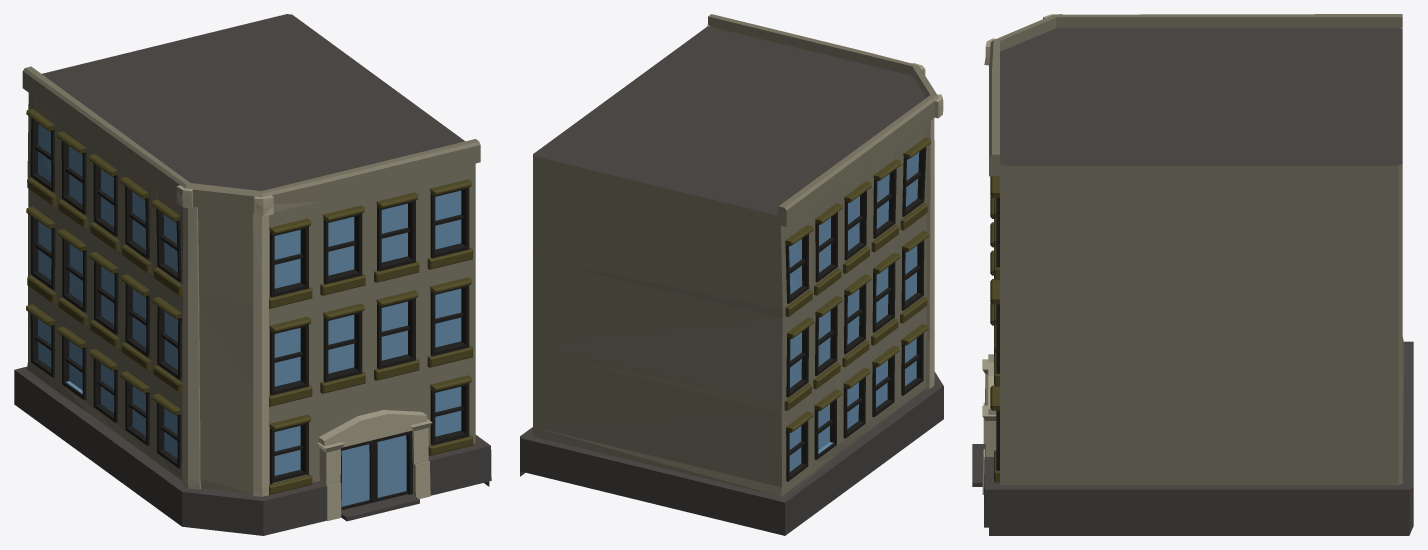
File: apartment2.fbx
The picture shows the model from 3 angles, left to right: view 1: azimuth 30°, elevation 25°; view 2: azimuth 150°, elevation 25°; view 3: azimuth 270°, elevation 25°; orthographic projection. The views are drawn at different scales.
Parts seen in each view (by area): view 1: pasted__pasted__pasted__pCube21; view 2: pasted__pasted__pasted__pCube21; view 3: pasted__pasted__pasted__pCube21.
Part boxes in pixels (x1,y1,x2,y2): pasted__pasted__pasted__pCube21: [14, 14, 491, 535]; pasted__pasted__pasted__pCube21: [520, 14, 943, 535]; pasted__pasted__pasted__pCube21: [972, 14, 1413, 535].
Size of the model in its own units: 56.81 by 67.29 by 71.4.
